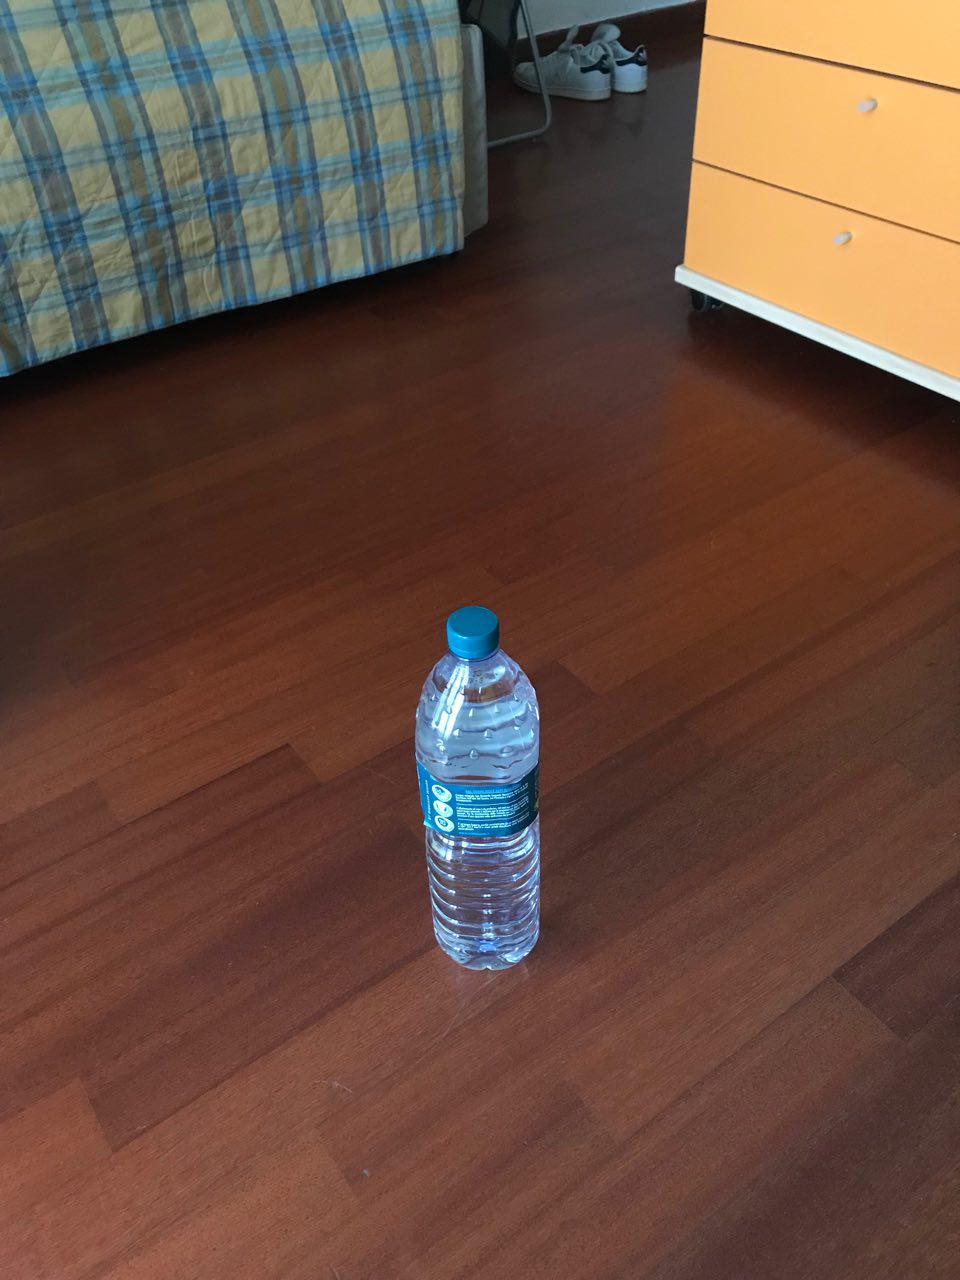san_bernardo: (412, 604, 541, 973)
